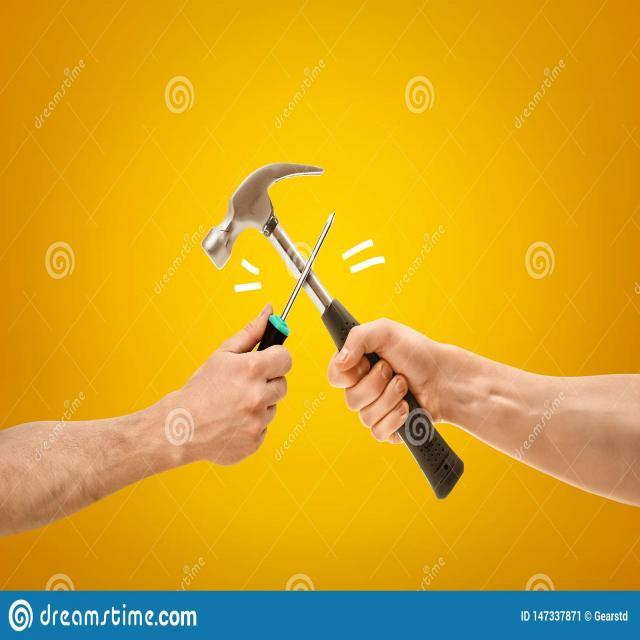hammer: (201, 158, 465, 506)
screwdriver: (257, 208, 339, 364)
